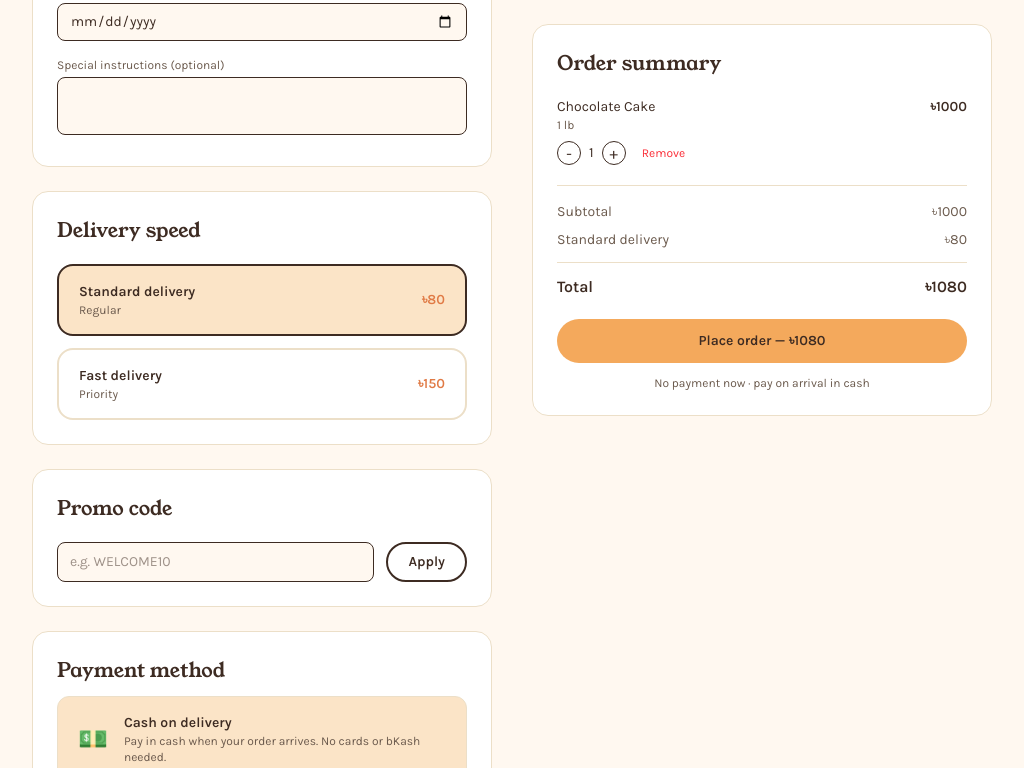
Test: Checkout - application integration › updates the grand total when fast delivery is selected
(page scrolled)
Expected: the text "৳1080" is shown, [925,275,967,299]
Click the button "Fast delivery Priority ৳150". click: (120, 376)
box: [57,348,467,420]
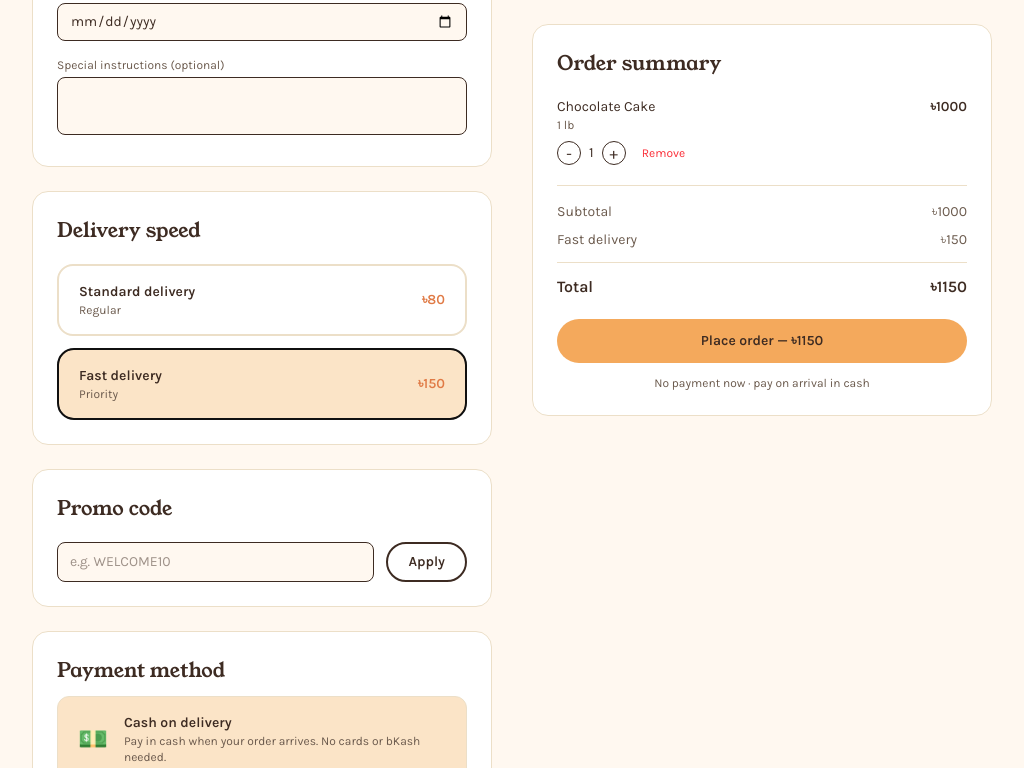
Expected: the text "৳1150" is shown, [930,275,967,299]
